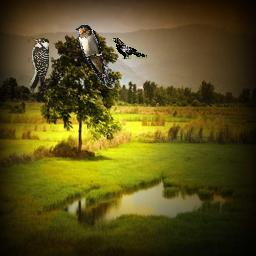Crow: (110, 37, 147, 59)
Swallow: (74, 24, 111, 85)
Woodpecker: (28, 37, 49, 95)
